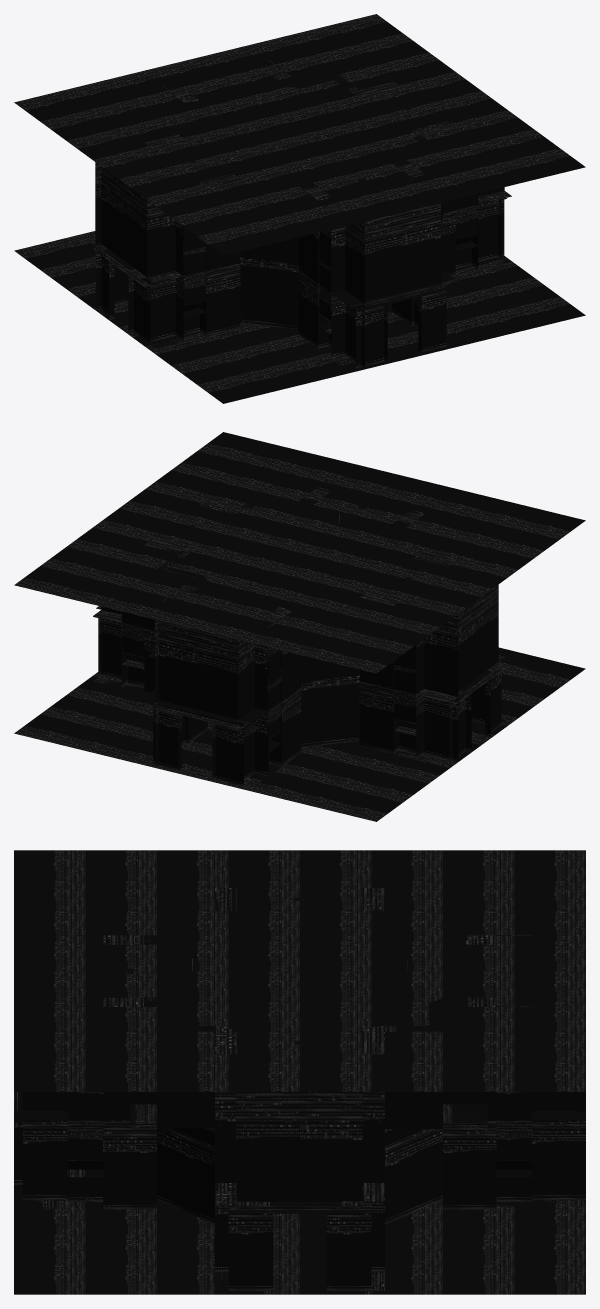
File: room4_opt.obj
3 renders of one model, top to bottom at view 1: azimuth 30°, elevation 25°; view 2: azimuth 150°, elevation 25°; view 3: azimuth 270°, elevation 25°, orthographic. The views are drawn at different scales.
Bounding box in the file's own units: 2048 × 850 × 2048.
